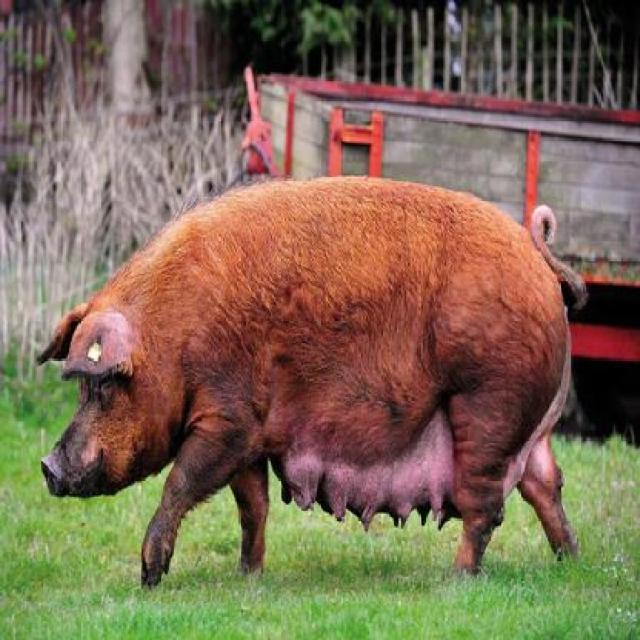pig: (40, 178, 585, 584)
